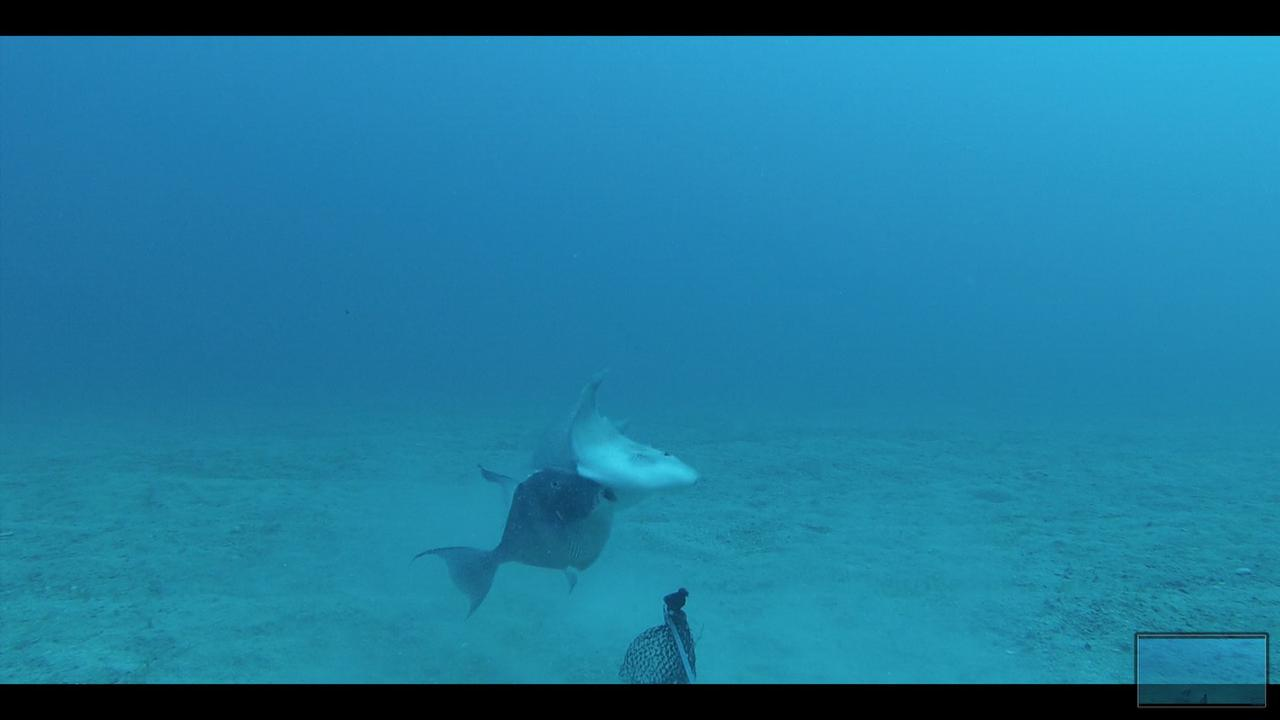balistes: (403, 457, 619, 621), (566, 361, 705, 499)
